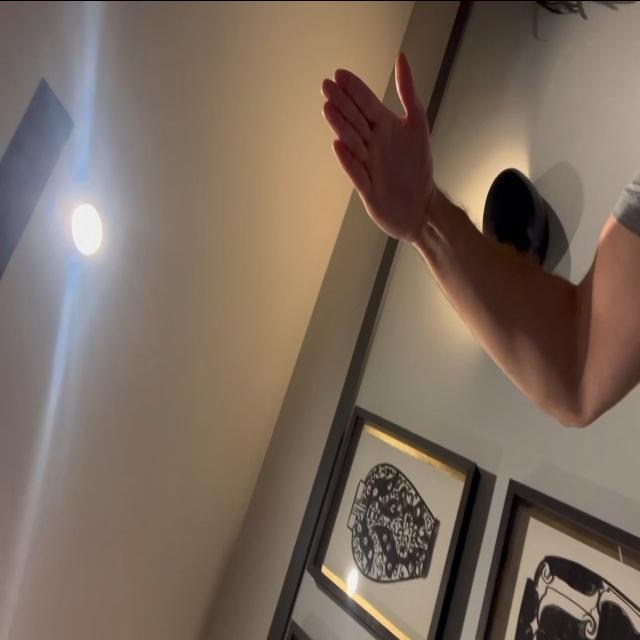Paper: (322, 48, 434, 248)
